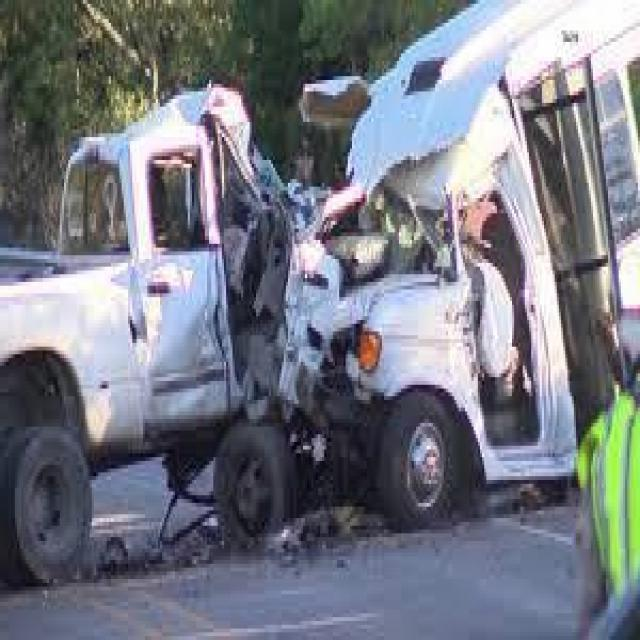accident: (2, 3, 636, 594)
